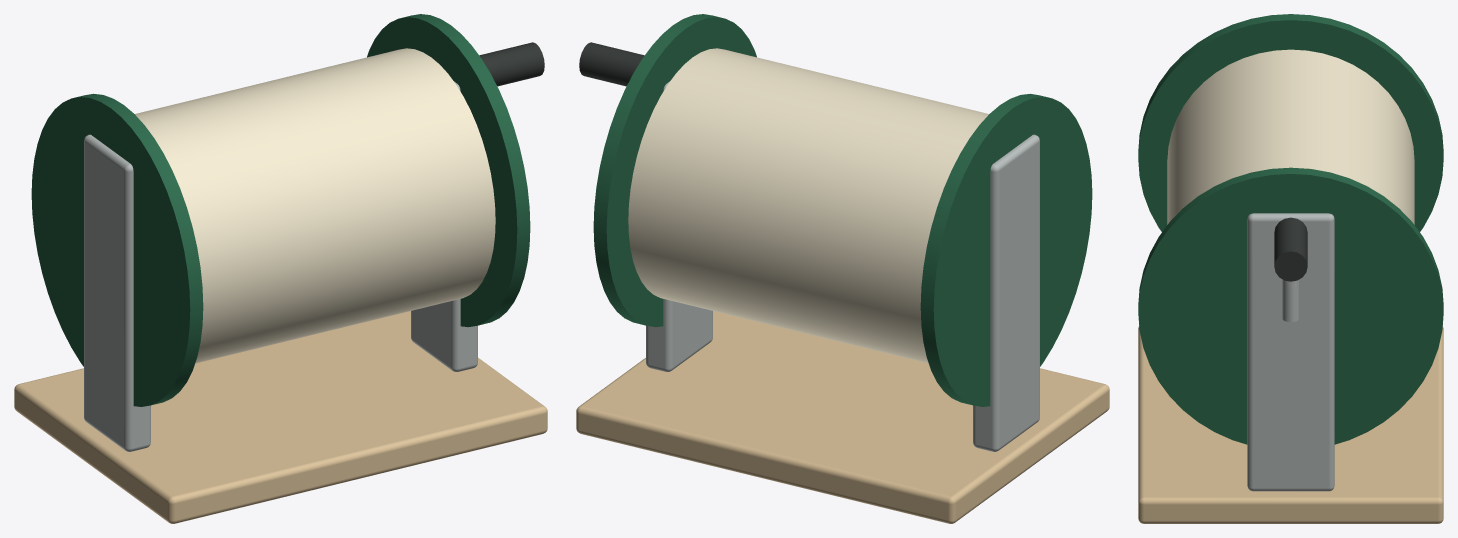
File: cricket-ground-and-pavilion-boundary-rope-reel-f14cae43__31329.glb
The picture shows the model from 3 angles, left to right: view 1: azimuth 30°, elevation 25°; view 2: azimuth 150°, elevation 25°; view 3: azimuth 270°, elevation 25°; orthographic projection. The views are drawn at different scales.
Visible parts, largest first — view 1: boundary-rope-reel; view 2: boundary-rope-reel; view 3: boundary-rope-reel.
Boxes of the visible parts, bbox=[...] form: boundary-rope-reel: bbox=[14, 14, 547, 523]; boundary-rope-reel: bbox=[576, 14, 1109, 523]; boundary-rope-reel: bbox=[1138, 14, 1443, 523].
Size of the model in its own units: 0.68 by 0.52 by 0.42.
